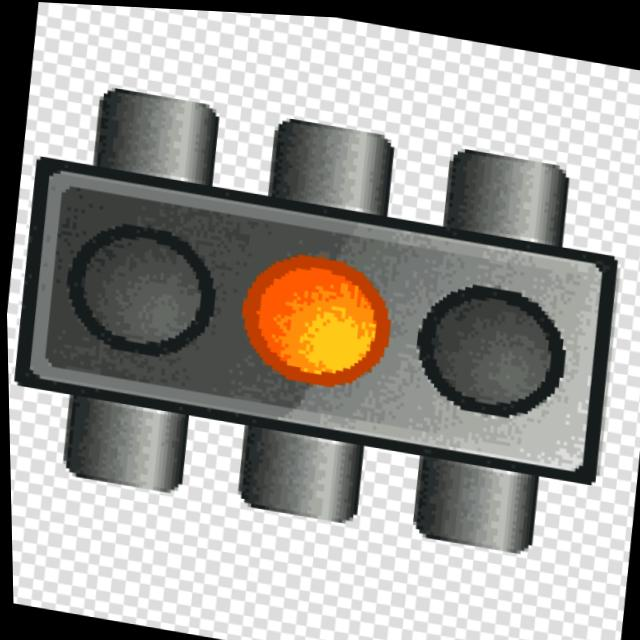yellow_light: (176, 180, 415, 430)
